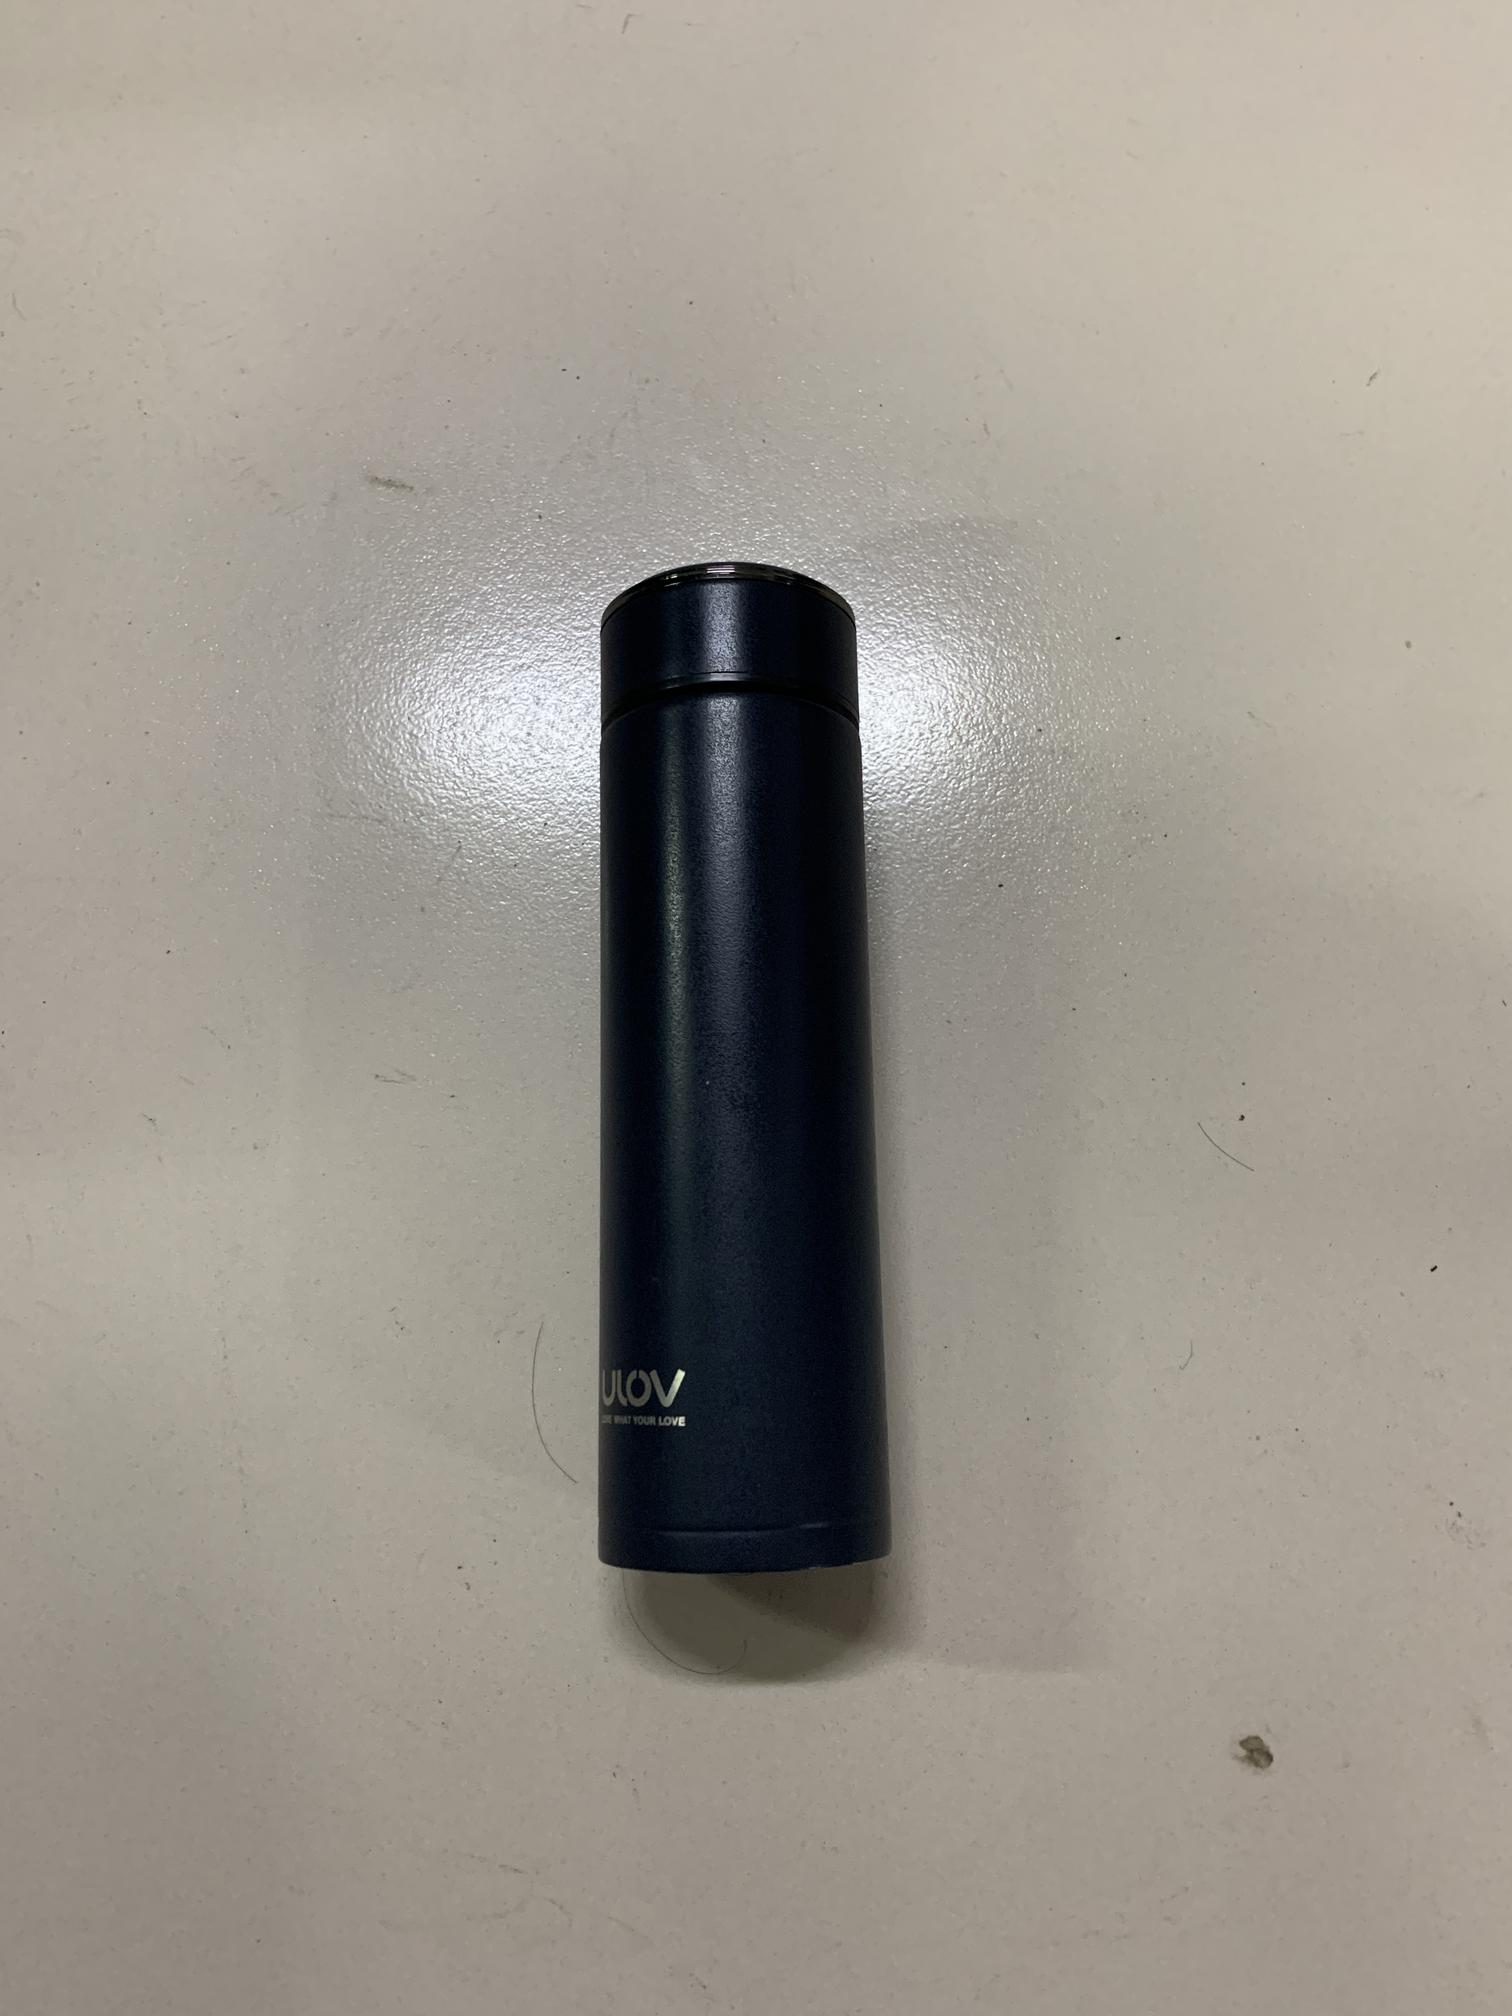cup: (589, 549, 901, 1611)
